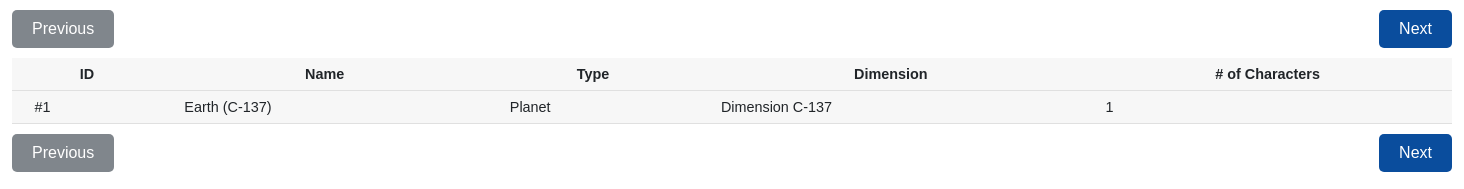
LocationsComponent › should bring new data when paginating
This screenshot has width=1464, height=189.
Click the 1st button "Next" at point(1416, 29), box [1379,10,1452,48]
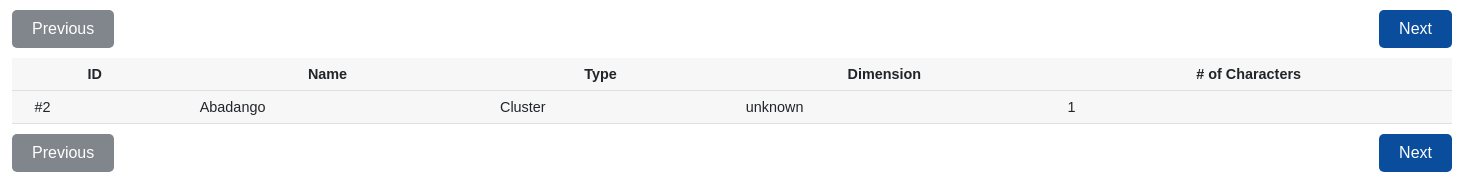
Expected: the text "Abadango" is shown, [177,90,478,124]
Expected: the text "unknown" is shown, [723,90,1045,124]
